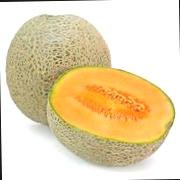Melon Ripe: (48, 65, 176, 168), (6, 12, 112, 126)
